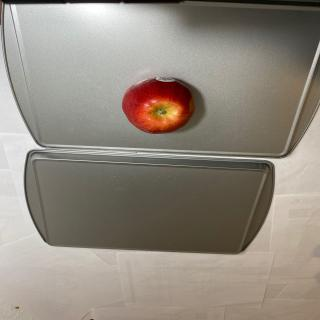Apple: (121, 76, 196, 134)
